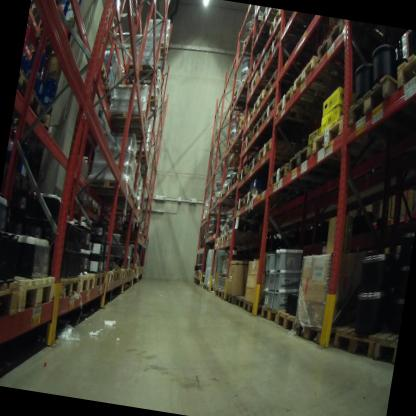pallet: (309, 107, 414, 176), (346, 69, 416, 140), (287, 51, 362, 117), (315, 16, 388, 77), (286, 142, 368, 189), (259, 94, 332, 143), (0, 268, 59, 325), (269, 160, 337, 199), (329, 311, 381, 361), (274, 84, 335, 126), (62, 71, 118, 111), (51, 50, 111, 87), (292, 309, 341, 350), (80, 169, 133, 203), (256, 136, 303, 173), (26, 86, 59, 137), (391, 29, 416, 94), (104, 111, 149, 144), (249, 114, 294, 146), (372, 316, 400, 367), (268, 10, 311, 41), (255, 57, 299, 86), (265, 31, 302, 65), (264, 68, 302, 101), (242, 187, 289, 213), (50, 273, 82, 311), (274, 302, 306, 338), (238, 34, 274, 64), (231, 195, 267, 222), (90, 189, 135, 210), (244, 79, 277, 107), (121, 60, 159, 84), (243, 108, 273, 138), (15, 69, 40, 103), (0, 287, 20, 328), (251, 90, 281, 117), (257, 299, 287, 326), (147, 38, 176, 65), (225, 227, 256, 246), (240, 131, 263, 156), (248, 52, 268, 79), (228, 94, 254, 114), (129, 147, 153, 168), (77, 272, 97, 297), (224, 135, 244, 157), (242, 296, 262, 318), (145, 91, 162, 116), (90, 268, 107, 293), (246, 151, 261, 179), (204, 211, 230, 226), (236, 162, 250, 187), (260, 6, 279, 24), (127, 194, 143, 215), (233, 292, 250, 311), (229, 167, 240, 192), (238, 112, 251, 133), (223, 288, 239, 305), (213, 234, 227, 251), (104, 268, 116, 287), (113, 265, 123, 284), (214, 285, 226, 300), (217, 231, 229, 245), (206, 280, 217, 294), (210, 191, 224, 202), (223, 179, 230, 197), (119, 267, 127, 282), (124, 266, 131, 281), (128, 263, 135, 277), (202, 280, 210, 291), (197, 280, 204, 291)
